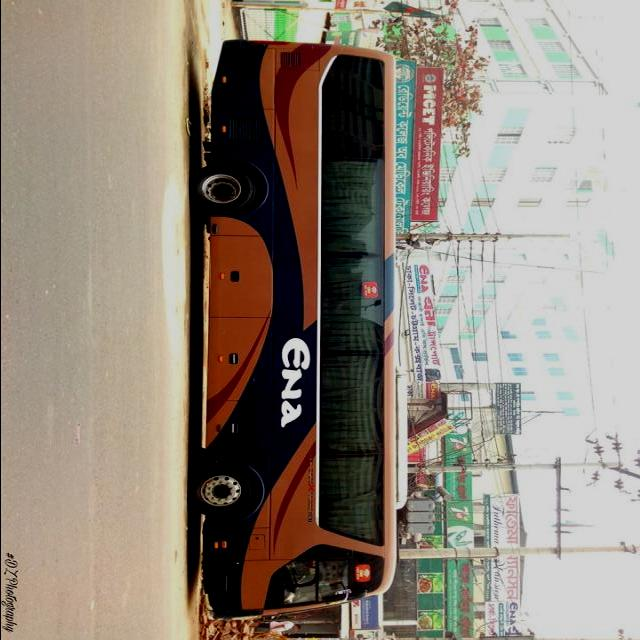bus: (184, 38, 411, 624)
